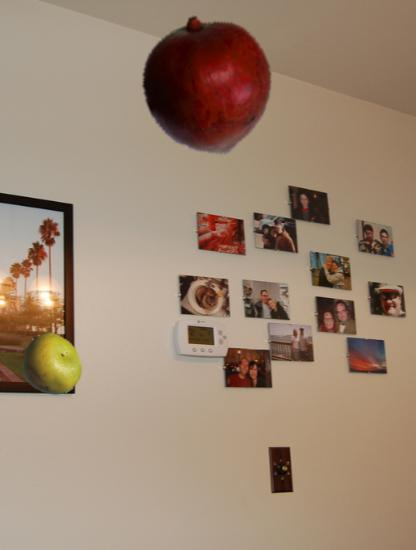Mango: (137, 14, 281, 158)
Pomelo: (19, 333, 84, 398)
